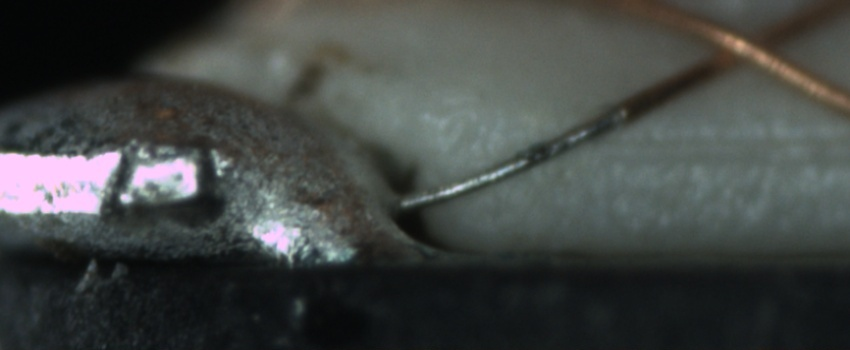CL: (681, 14, 811, 81)
DL: (534, 118, 850, 182)
TS: (398, 105, 626, 212)
